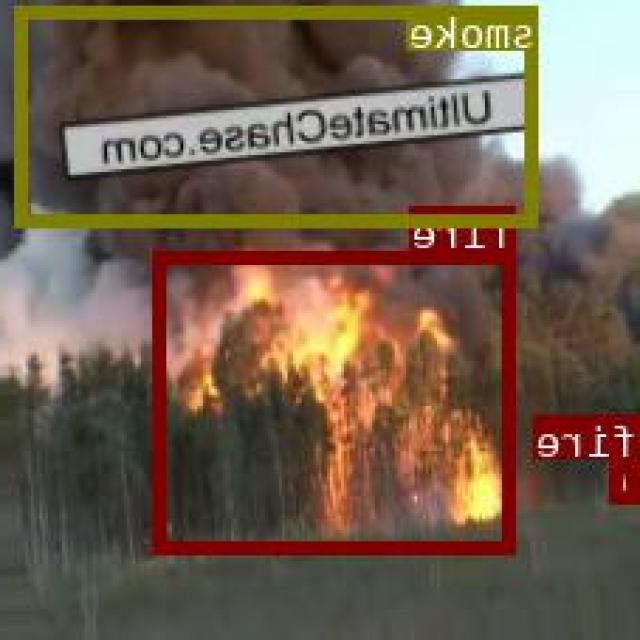fire: (157, 250, 516, 552), (615, 456, 640, 499)
smoke: (17, 3, 539, 223)
